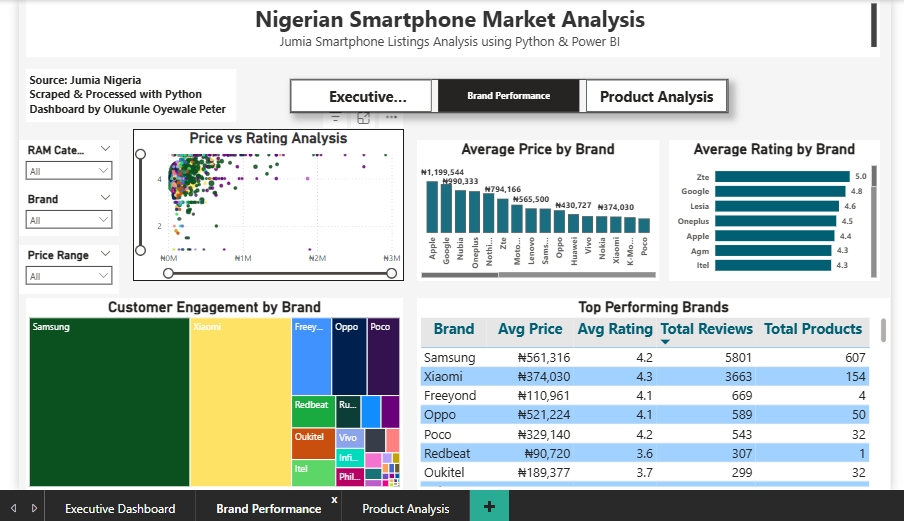

The page's visual inventory and layout, read from the dashboard file:
{"tool":"powerbi","page":{"name":"Brand Performance","canvas":[1280,720],"ordinal":1},"visuals":[{"type":"textbox","box":[10.1,0,1254.8,84],"z":0},{"type":"slicer","fields":{"Values":["Product_variant.Brand"]},"box":[10.1,193.2,146.1,68.9],"z":1000},{"type":"slicer","fields":{"Values":["Product_variant.Price Range"]},"box":[10.1,359.5,146.1,72.2],"z":2000},{"type":"slicer","fields":{"Values":["Product_variant.RAM Category"]},"box":[10.1,274.6,146.1,72.2],"z":3000},{"type":"scatterChart","title":"Price vs Rating Analysis","fields":{"Y":["_Measure.Average Rating"],"X":["_Measure.Average Price"],"Size":["_Measure.Total Reviews"],"Series":["Product_variant.Brand"],"Category":["Product_variant.Variant Key"]},"box":[166,196.9,398.2,224.8],"z":4000},{"type":"clusteredColumnChart","title":"Average Price by Brand","fields":{"Category":["Product_variant.Brand"],"Y":["_Measure.Average Price"]},"box":[584.8,205.7,355.6,207.2],"z":5000},{"type":"clusteredBarChart","title":"Average Rating by Brand","fields":{"Category":["Product_variant.Brand"],"Y":["_Measure.Average Rating"]},"box":[955.1,205.7,310,207.2],"z":6000},{"type":"treemap","title":"Total Reviews by Brand","fields":{"Group":["Product_variant.Brand"],"Values":["_Measure.Total Reviews"]},"box":[10.1,438.4,554.3,282.2],"z":7000},{"type":"tableEx","title":"Brand Performance Overview","fields":{"Values":["Product_variant.Brand","_Measure.Average Price","_Measure.Average Rating","_Measure.Total Reviews","_Measure.Total Products"]},"box":[584.6,438.4,695.4,282.2],"z":8000},{"type":"pageNavigator","box":[398.2,116.1,643.6,50],"z":9000},{"type":"textbox","box":[10.3,101.4,308.6,77.9],"z":10000}]}

Visuals, with their boxes on the page's 1280x720 design canvas (x1, y1, x2, y2). These are canvas units, not pixel positions in the 904x521 screenshot, which may show the page scaled, cropped or inside an application window:
textbox: locate(10, 0, 1265, 84)
slicer - Product_variant.Brand: locate(10, 193, 156, 262)
slicer - Product_variant.Price Range: locate(10, 360, 156, 432)
slicer - Product_variant.RAM Category: locate(10, 275, 156, 347)
"Price vs Rating Analysis" scatterChart: locate(166, 197, 564, 422)
"Average Price by Brand" clusteredColumnChart: locate(585, 206, 940, 413)
"Average Rating by Brand" clusteredBarChart: locate(955, 206, 1265, 413)
"Total Reviews by Brand" treemap: locate(10, 438, 564, 721)
"Brand Performance Overview" tableEx: locate(585, 438, 1280, 721)
pageNavigator: locate(398, 116, 1042, 166)
textbox: locate(10, 101, 319, 179)
